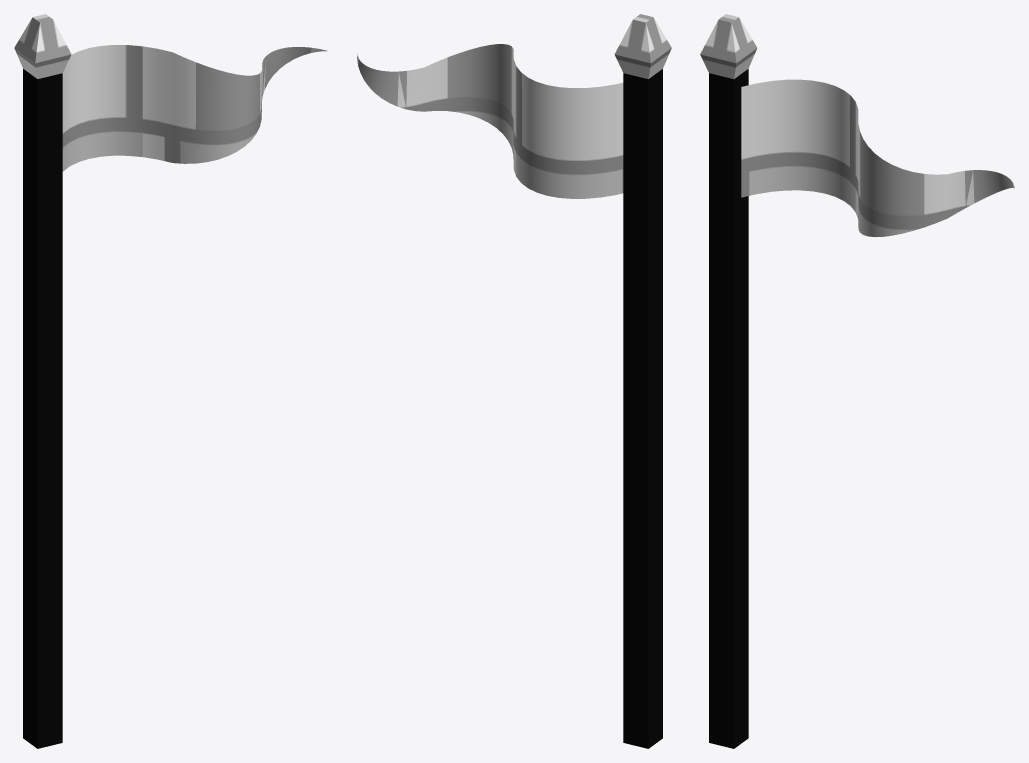
Rendered from dyniowy_poziom_flaga.fbx.
3 views of the same model, side by side, from view 1: azimuth 30°, elevation 25°; view 2: azimuth 150°, elevation 25°; view 3: azimuth 330°, elevation 25° (orthographic).
Parts seen in each view (by area): view 1: mergedBlocks; view 2: mergedBlocks; view 3: mergedBlocks.
Part boxes in pixels (<box>): mergedBlocks: <box>14,14,327,748</box>; mergedBlocks: <box>357,14,671,748</box>; mergedBlocks: <box>700,14,1014,748</box>.
Bounding box in the file's own units: 3.49 × 7.92 × 0.8991.
2 materials, 1 textured.
